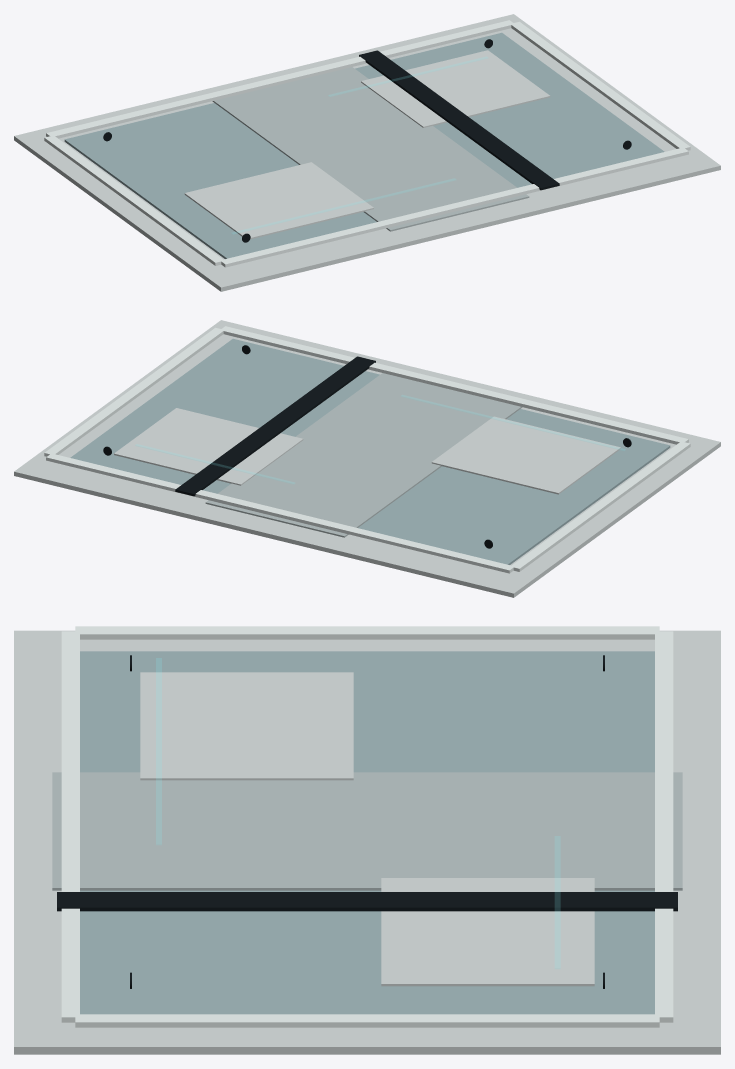
Rendered from hp_room_floor_tile_clinic.glb.
3 views of the same model, one above another, from view 1: azimuth 30°, elevation 25°; view 2: azimuth 150°, elevation 25°; view 3: azimuth 270°, elevation 25° (orthographic). The views are drawn at different scales.
Parts seen in each view (by area): view 1: clinic_floor_large_grey_plate, clinic_floor_slab_base, clinic_floor_center_worn_path, clinic_floor_inner_panel_a, clinic_floor_inner_panel_b, clinic_floor_front_raised_border, clinic_floor_back_raised_border, clinic_floor_dark_cable_trench, clinic_floor_left_raised_border, clinic_floor_right_raised_border; view 2: clinic_floor_large_grey_plate, clinic_floor_slab_base, clinic_floor_center_worn_path, clinic_floor_inner_panel_a, clinic_floor_inner_panel_b, clinic_floor_back_raised_border, clinic_floor_front_raised_border, clinic_floor_dark_cable_trench, clinic_floor_left_raised_border, clinic_floor_right_raised_border; view 3: clinic_floor_large_grey_plate, clinic_floor_center_worn_path, clinic_floor_slab_base, clinic_floor_inner_panel_a, clinic_floor_inner_panel_b, clinic_floor_dark_cable_trench, clinic_floor_right_raised_border, clinic_floor_left_raised_border, clinic_floor_front_raised_border, clinic_floor_back_raised_border, clinic_floor_cyan_line_a.
Part boxes in pixels (left/top/right/bottom): clinic_floor_large_grey_plate: left=64, top=32, right=664, bottom=258; clinic_floor_slab_base: left=14, top=14, right=720, bottom=291; clinic_floor_center_worn_path: left=212, top=67, right=529, bottom=231; clinic_floor_inner_panel_a: left=184, top=162, right=373, bottom=239; clinic_floor_inner_panel_b: left=361, top=50, right=550, bottom=127; clinic_floor_front_raised_border: left=220, top=147, right=688, bottom=267; clinic_floor_back_raised_border: left=46, top=20, right=514, bottom=138; clinic_floor_dark_cable_trench: left=359, top=50, right=559, bottom=190; clinic_floor_left_raised_border: left=44, top=135, right=222, bottom=265; clinic_floor_right_raised_border: left=511, top=21, right=690, bottom=150; clinic_floor_large_grey_plate: left=70, top=338, right=670, bottom=564; clinic_floor_slab_base: left=14, top=320, right=720, bottom=597; clinic_floor_center_worn_path: left=205, top=373, right=522, bottom=537; clinic_floor_inner_panel_a: left=431, top=416, right=620, bottom=494; clinic_floor_inner_panel_b: left=114, top=408, right=303, bottom=485; clinic_floor_back_raised_border: left=46, top=453, right=514, bottom=573; clinic_floor_front_raised_border: left=220, top=326, right=688, bottom=444; clinic_floor_dark_cable_trench: left=175, top=356, right=375, bottom=496; clinic_floor_left_raised_border: left=512, top=441, right=690, bottom=571; clinic_floor_right_raised_border: left=44, top=327, right=223, bottom=456; clinic_floor_large_grey_plate: left=80, top=651, right=654, bottom=1014; clinic_floor_center_worn_path: left=52, top=772, right=682, bottom=890; clinic_floor_slab_base: left=14, top=630, right=720, bottom=1054; clinic_floor_inner_panel_a: left=140, top=672, right=353, bottom=780; clinic_floor_inner_panel_b: left=381, top=878, right=594, bottom=986; clinic_floor_dark_cable_trench: left=57, top=892, right=677, bottom=911; clinic_floor_right_raised_border: left=75, top=1014, right=659, bottom=1027; clinic_floor_left_raised_border: left=75, top=626, right=659, bottom=639; clinic_floor_front_raised_border: left=61, top=631, right=79, bottom=1022; clinic_floor_back_raised_border: left=655, top=631, right=673, bottom=1022; clinic_floor_cyan_line_a: left=156, top=658, right=161, bottom=844.
Bounding box in the file's own units: 4.25 × 0.1505 × 3.05.
